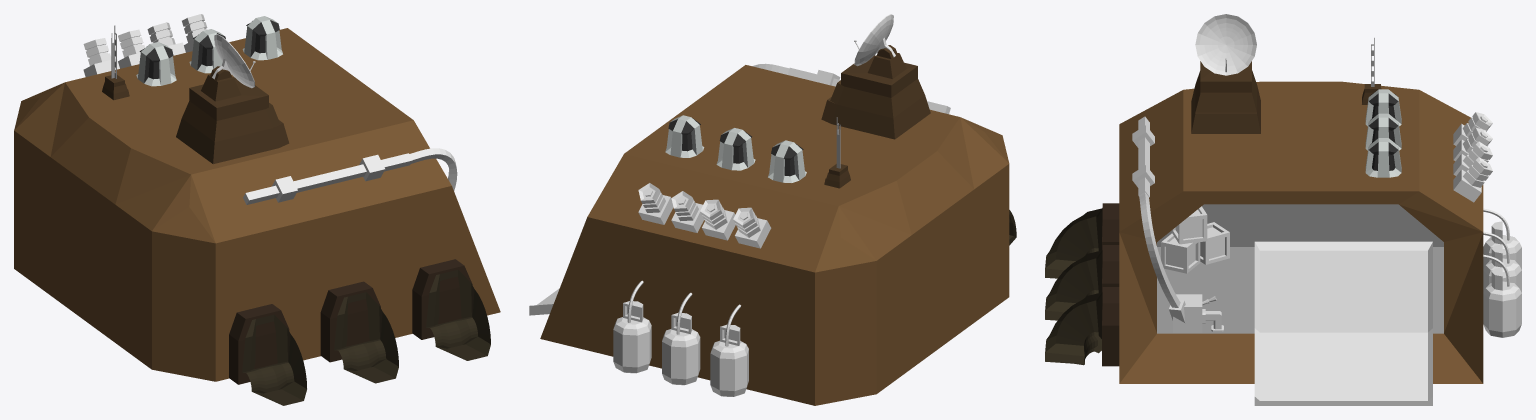
Rendered from Tank_Factory.fbx.
3 views of the same model, side by side, from view 1: azimuth 30°, elevation 25°; view 2: azimuth 150°, elevation 25°; view 3: azimuth 270°, elevation 25° (orthographic). The views are drawn at different scales.
Parts seen in each view (by area): view 1: Mainframe, Vent entrence, Sattlite stand, Energy Converter Team color, Cube.001, Cube.003, Circle, Cube.005, Sattlite stand.001; view 2: Mainframe, Cylinder.003, Sattlite stand, Cube.001, Energy Converter Team color, Circle, Cube.003, Cylinder, Sattlite stand.001; view 3: Mainframe, Cube, Vent entrence, Sattlite stand, Cylinder.003, Circle, Energy Converter Team color, Cube.001, Cube.005, Cube.006, Cube.003, Cube.007 (+3 smaller).
Part boxes in pixels (box(x1,y1,x2,y2)): Mainframe: box(14, 28, 500, 381); Vent entrence: box(229, 259, 490, 405); Sattlite stand: box(176, 66, 289, 164); Energy Converter Team color: box(136, 16, 282, 86); Cube.001: box(83, 14, 207, 76); Cube.003: box(243, 153, 412, 204); Circle: box(212, 34, 255, 88); Cube.005: box(409, 148, 457, 190); Sattlite stand.001: box(102, 75, 129, 100); Mainframe: box(540, 65, 1009, 405); Cylinder.003: box(613, 301, 748, 396); Sattlite stand: box(821, 45, 930, 139); Cube.001: box(638, 183, 771, 248); Energy Converter Team color: box(665, 115, 806, 182); Circle: box(854, 14, 895, 66); Cube.003: box(787, 67, 950, 114); Cylinder: box(627, 280, 740, 346); Sattlite stand.001: box(824, 164, 850, 188); Mainframe: box(1119, 81, 1483, 383); Cube: box(1254, 241, 1432, 405); Vent entrence: box(1045, 203, 1119, 366); Sattlite stand: box(1191, 61, 1260, 133); Cylinder.003: box(1483, 221, 1521, 337); Circle: box(1195, 14, 1256, 75); Energy Converter Team color: box(1365, 89, 1401, 177); Cube.001: box(1453, 112, 1492, 202); Cube.005: box(1139, 192, 1180, 307); Cube.006: box(1169, 294, 1216, 332); Cube.003: box(1132, 116, 1154, 197); Cube.007: box(1161, 233, 1200, 273).
Size of the model in its own units: 900 by 702 by 1106.
